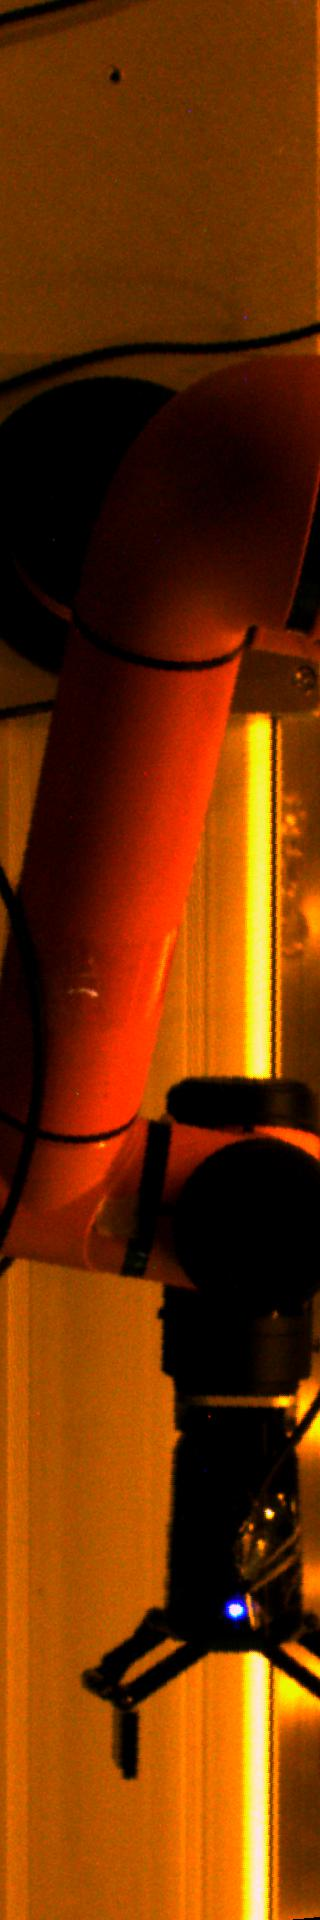keyPoint_1: (219, 1592, 250, 1622)
keyPoint_2: (99, 61, 129, 91)
